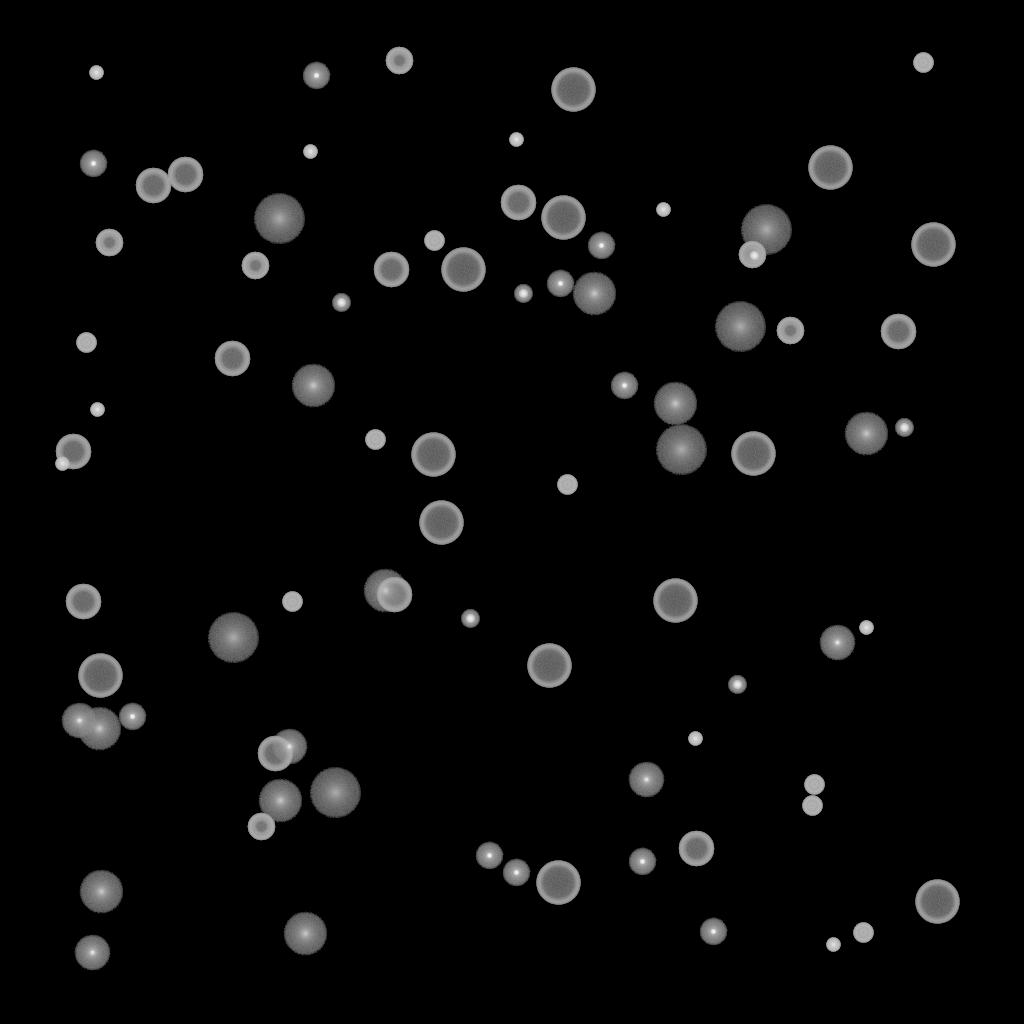depth:-10: (587, 232, 615, 260), (502, 859, 530, 887), (610, 372, 638, 400), (118, 703, 146, 731), (475, 842, 503, 870), (302, 62, 330, 90), (546, 270, 574, 298), (79, 150, 107, 178), (699, 918, 727, 946), (628, 848, 656, 876)
depth:-20: (332, 294, 350, 312), (745, 247, 763, 265), (461, 610, 479, 628), (728, 676, 746, 694), (514, 285, 532, 303), (895, 419, 913, 437)
depth:-30: (55, 457, 69, 471), (656, 203, 670, 217), (826, 938, 840, 952), (303, 145, 317, 159), (859, 621, 873, 635), (688, 732, 702, 746), (90, 403, 104, 417), (509, 133, 523, 147), (89, 66, 103, 80)
depth:-40: (853, 923, 873, 943), (913, 53, 933, 73), (76, 333, 96, 353), (282, 592, 302, 612), (424, 231, 444, 251), (802, 796, 822, 816), (804, 775, 824, 795), (365, 430, 385, 450), (557, 475, 577, 495)
depth:-50: (241, 252, 269, 280), (738, 241, 766, 269), (385, 47, 413, 75), (95, 229, 123, 257), (247, 813, 275, 841), (776, 317, 804, 345)
depth:-60: (55, 434, 91, 470), (135, 168, 171, 204), (678, 831, 714, 867), (65, 584, 101, 620), (500, 185, 536, 221), (373, 252, 409, 288), (257, 736, 293, 772), (376, 577, 412, 613), (880, 314, 916, 350), (214, 341, 250, 377), (167, 157, 203, 193)
depth:-70: (653, 579, 697, 623), (911, 223, 955, 267), (551, 68, 595, 112), (441, 248, 485, 292), (78, 654, 122, 698), (808, 146, 852, 190), (411, 433, 455, 477), (536, 861, 580, 905), (419, 501, 463, 545), (541, 196, 585, 240), (915, 880, 959, 924), (731, 432, 775, 476), (527, 644, 571, 688)
depth:0: (819, 625, 855, 661), (61, 703, 97, 739), (74, 935, 110, 971), (628, 762, 664, 798), (271, 729, 307, 765)
depth:10: (844, 412, 888, 456), (363, 569, 407, 613), (258, 779, 302, 823), (79, 870, 123, 914), (572, 272, 616, 316), (283, 912, 327, 956), (77, 707, 121, 751), (291, 364, 335, 408), (653, 382, 697, 426)
depth:20: (207, 613, 259, 663), (253, 194, 305, 244), (740, 205, 792, 255), (655, 425, 707, 475), (714, 302, 766, 352), (309, 768, 361, 818)
